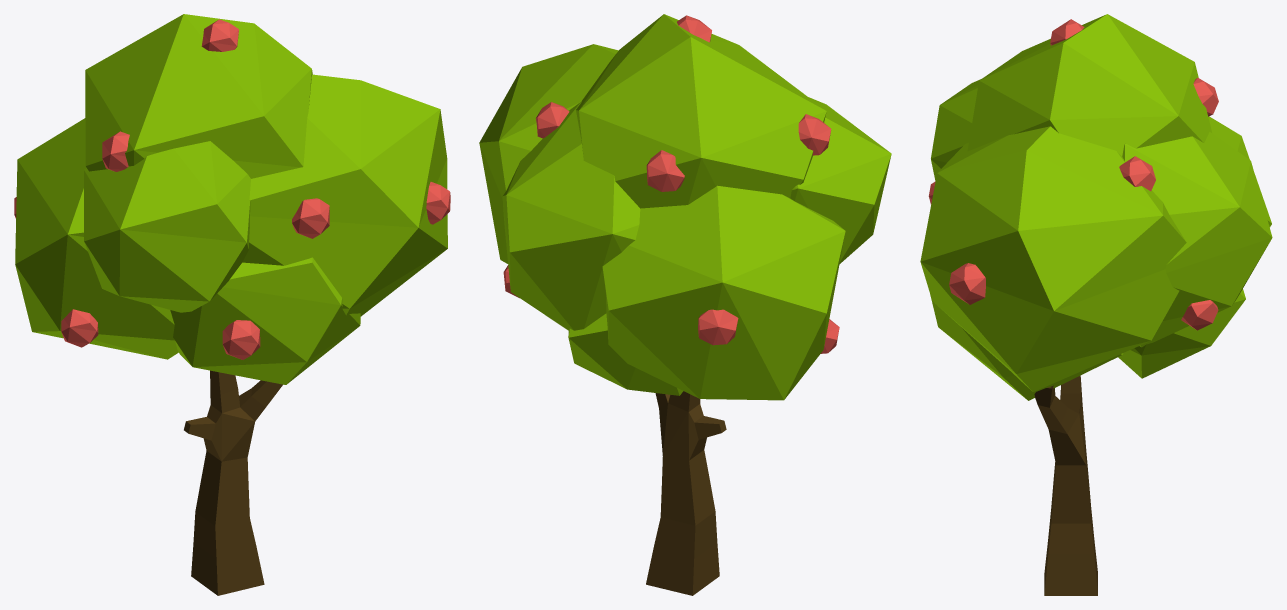
File: Tree_Apple.fbx
3 renders of one model, left to right at view 1: azimuth 30°, elevation 25°; view 2: azimuth 150°, elevation 25°; view 3: azimuth 270°, elevation 25°, orthographic.
Visible parts, largest first — view 1: Tree_Apple; view 2: Tree_Apple; view 3: Tree_Apple.
Part boxes in pixels (x1=…): Tree_Apple: x1=14, y1=14, x2=450, y2=595; Tree_Apple: x1=479, y1=14, x2=891, y2=595; Tree_Apple: x1=920, y1=14, x2=1272, y2=595.
Bounding box in the file's own units: 417 × 575 × 328.
